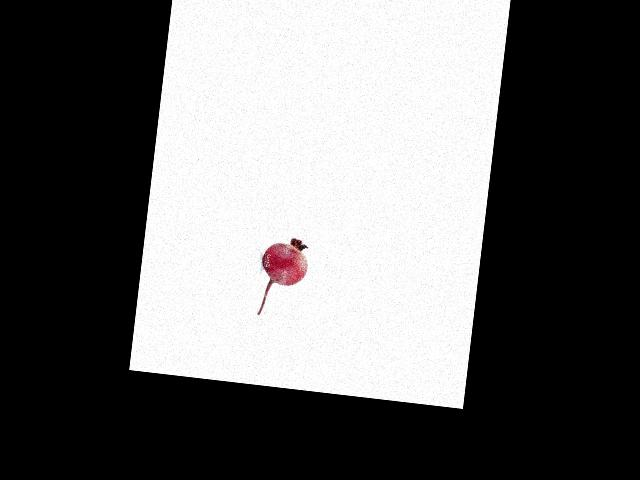beet: (256, 234, 310, 319)
